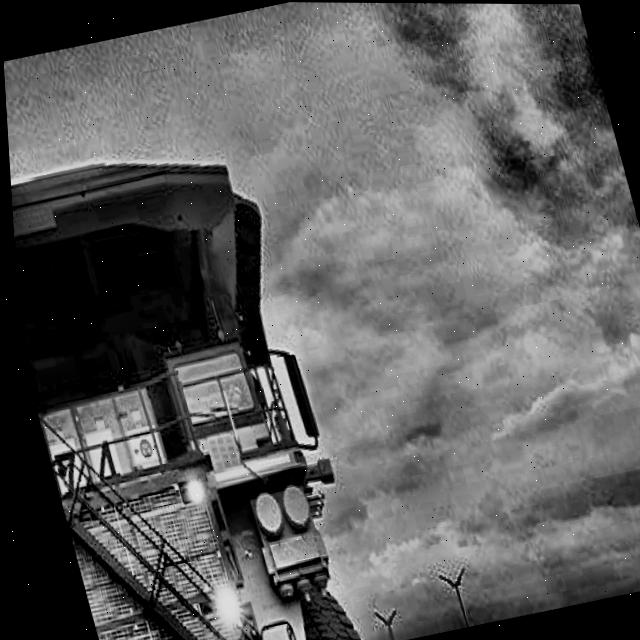dump_truck: (3, 71, 418, 640)
